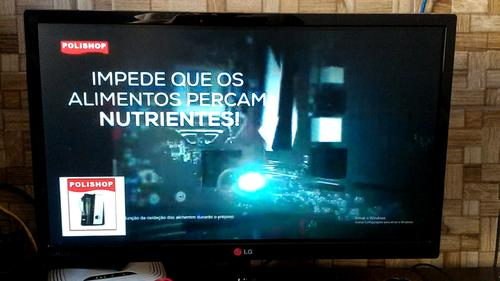Polishop #1: (59, 175, 126, 235)
